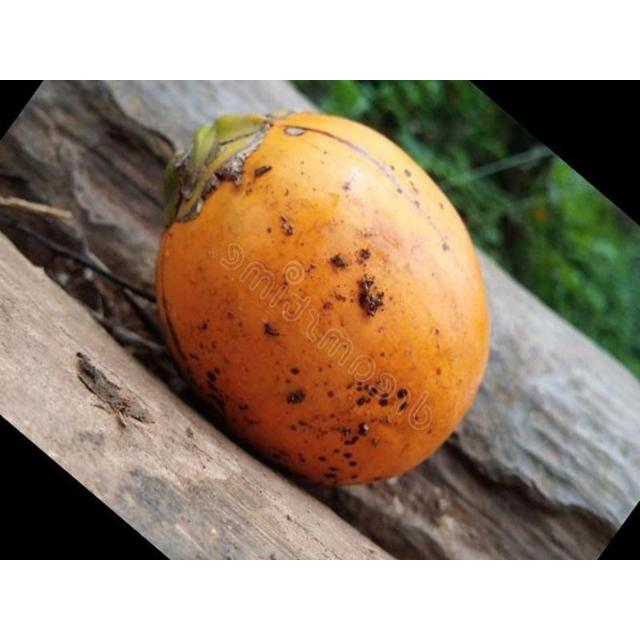good: (154, 111, 493, 490)
